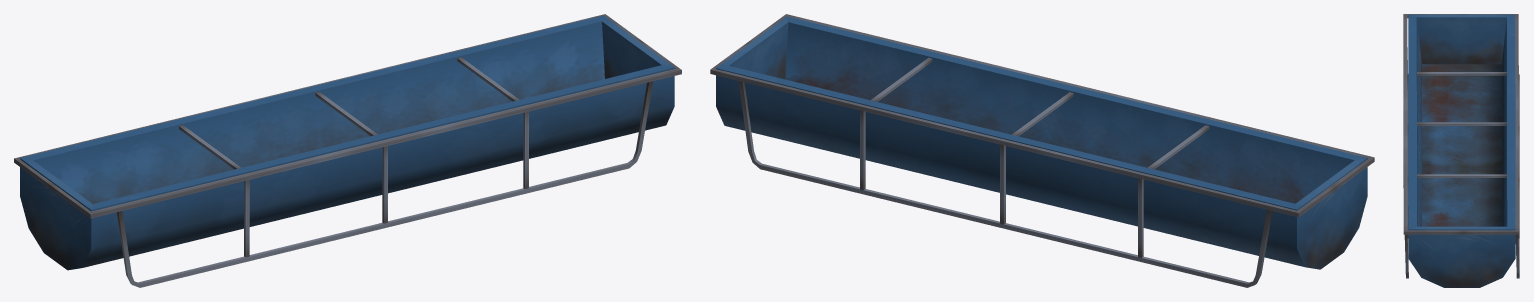
The model's file is Trough_Scaled.fbx.
The picture shows the model from 3 angles, left to right: view 1: azimuth 30°, elevation 25°; view 2: azimuth 150°, elevation 25°; view 3: azimuth 270°, elevation 25°; orthographic projection. The views are drawn at different scales.
Visible parts, largest first — view 1: FeedingTrough2, Trough_Frame_S6, Trough_Frame_S8, FramePole1, FramePole3, FramePole4, FramePole2, FramePole6, FramePole5; view 2: FeedingTrough2, Trough_Frame_S6, Trough_Frame_S9, FramePole9, FramePole7, FramePole8, FramePole2, FramePole6, FramePole5; view 3: FeedingTrough2, Trough_Frame_S6, FramePole2, FramePole5, FramePole6, Trough_Frame_S8, Trough_Frame_S9, FramePole4, FramePole7, FramePole3, FramePole8, FramePole9 (+1 smaller).
Part boxes in pixels (x1,y1,x2,y2): FeedingTrough2: [20, 15, 674, 270]; Trough_Frame_S6: [14, 14, 681, 218]; Trough_Frame_S8: [117, 81, 652, 287]; FramePole1: [244, 180, 249, 257]; FramePole3: [382, 146, 387, 223]; FramePole4: [523, 111, 528, 189]; FramePole2: [179, 125, 240, 169]; FramePole6: [457, 57, 519, 101]; FramePole5: [315, 92, 377, 135]; FeedingTrough2: [716, 16, 1367, 269]; Trough_Frame_S6: [710, 14, 1374, 217]; Trough_Frame_S9: [738, 81, 1272, 287]; FramePole9: [1138, 177, 1143, 257]; FramePole7: [860, 110, 865, 190]; FramePole8: [1000, 144, 1005, 224]; FramePole2: [1148, 125, 1209, 169]; FramePole6: [871, 57, 932, 101]; FramePole5: [1012, 92, 1073, 136]; FeedingTrough2: [1408, 14, 1515, 287]; Trough_Frame_S6: [1403, 14, 1518, 234]; FramePole2: [1417, 72, 1506, 75]; FramePole5: [1417, 122, 1506, 125]; FramePole6: [1417, 174, 1506, 177]; Trough_Frame_S8: [1404, 47, 1408, 278]; Trough_Frame_S9: [1515, 65, 1519, 278]; FramePole4: [1407, 177, 1408, 238]; FramePole7: [1518, 177, 1519, 238]; FramePole3: [1407, 125, 1408, 176]; FramePole8: [1518, 125, 1519, 176]; FramePole9: [1518, 74, 1519, 125].
Size of the model in its own units: 242 by 34.48 by 54.71.
